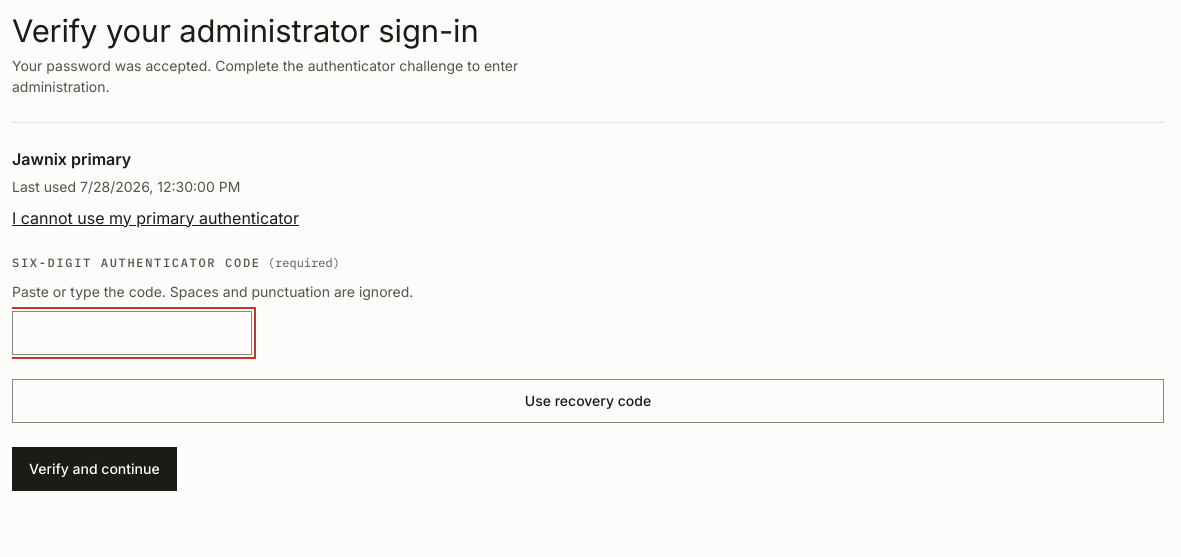
Test: administrator MFA › associates a non-revealing challenge error with the code field
Type "12 34" into the field labelled "Six-digit authenticator code (required)". click: {"x": 132, "y": 333}
box: [12,311,252,355]
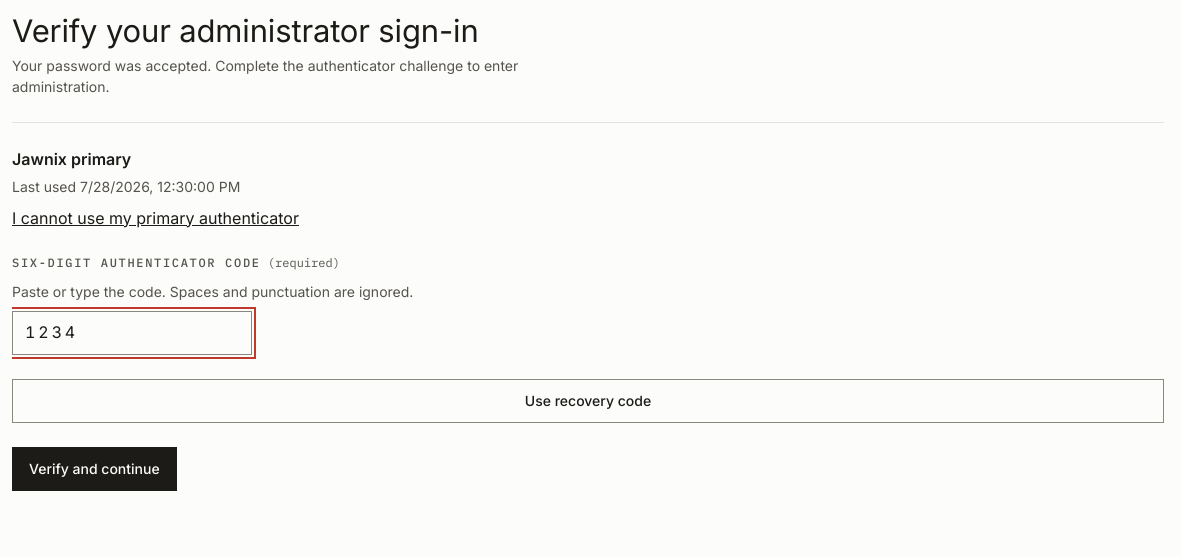
Click the button "Verify and continue". click: {"x": 94, "y": 469}
box: [12,447,177,491]
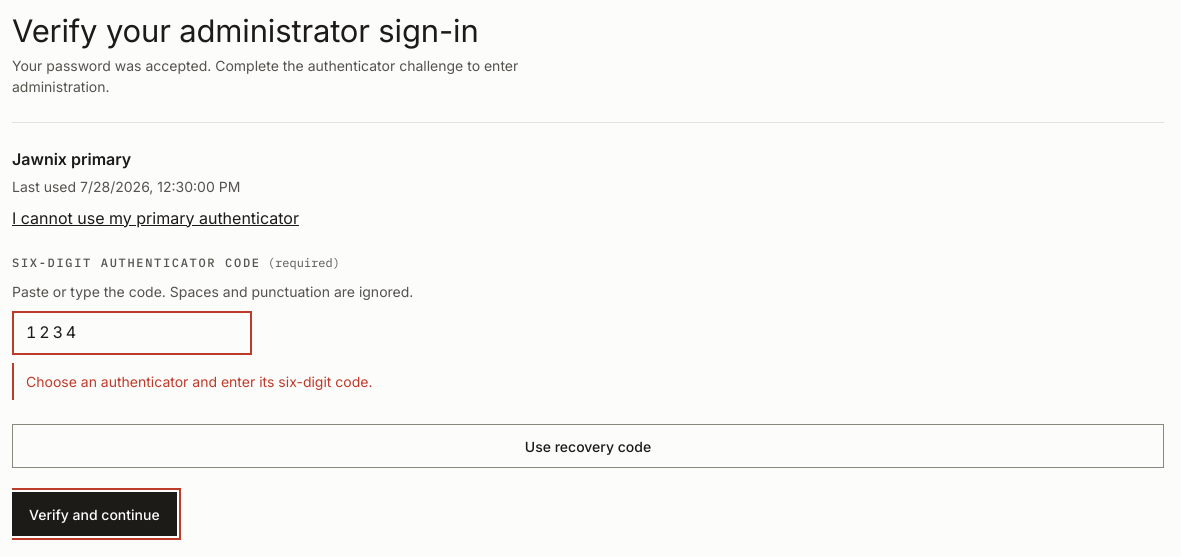
Now the message reads "Choose an authenticator and enter its six-digit code.", box [26,373,372,390]
